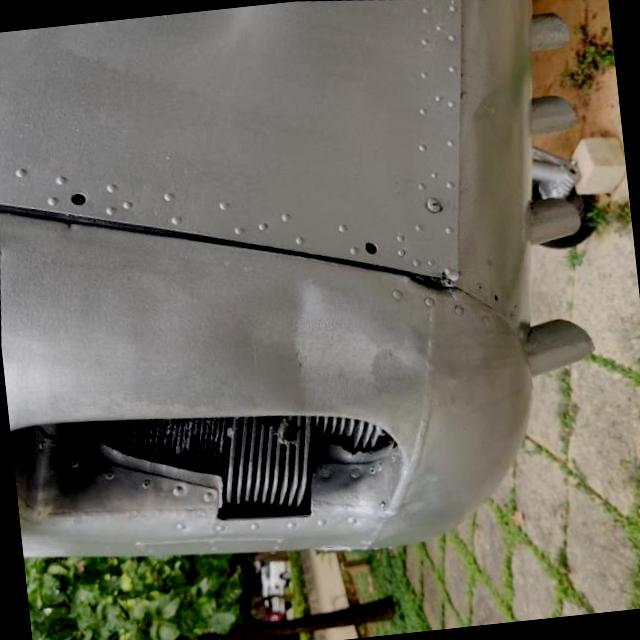Missing Fastener: (68, 191, 86, 204), (362, 238, 377, 253)
dent: (228, 262, 408, 418)
